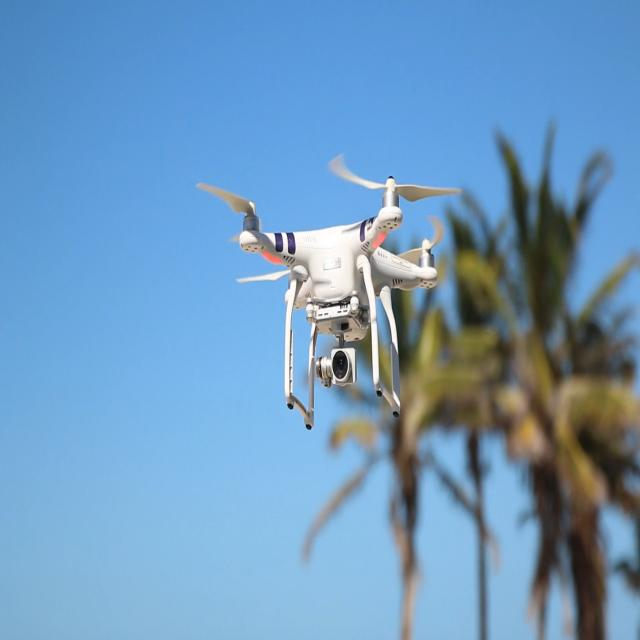Drone: (177, 158, 476, 430)
